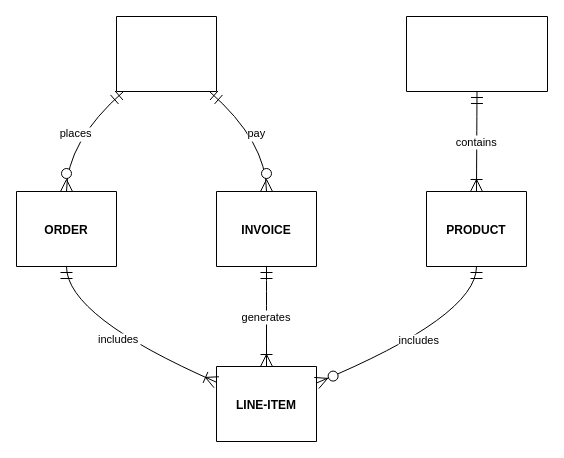
Some shapes in this 564 by 458 pixel diagram are drawn without their labels. Here are the shapes that lost their labels. From the top down, the centre of each, then its label:
At (166,54): "CUSTOMER".
At (477,54): "PRODUCT-CATEGORY".
